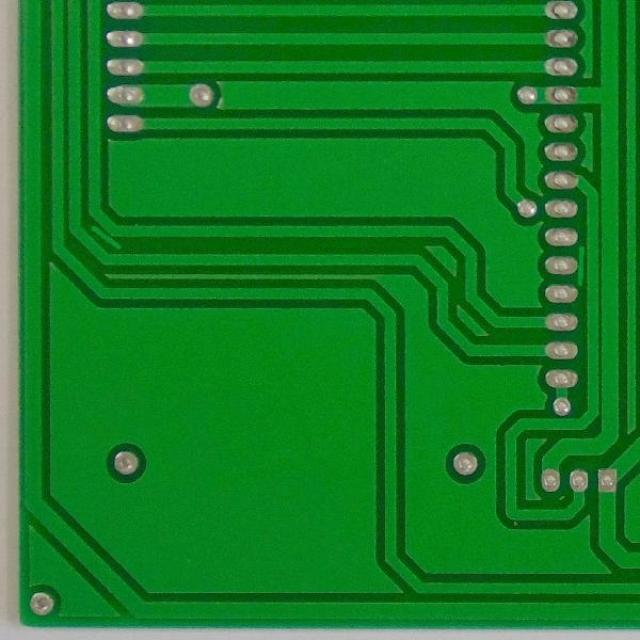spurious_copper: (86, 222, 122, 253), (573, 244, 590, 290)
